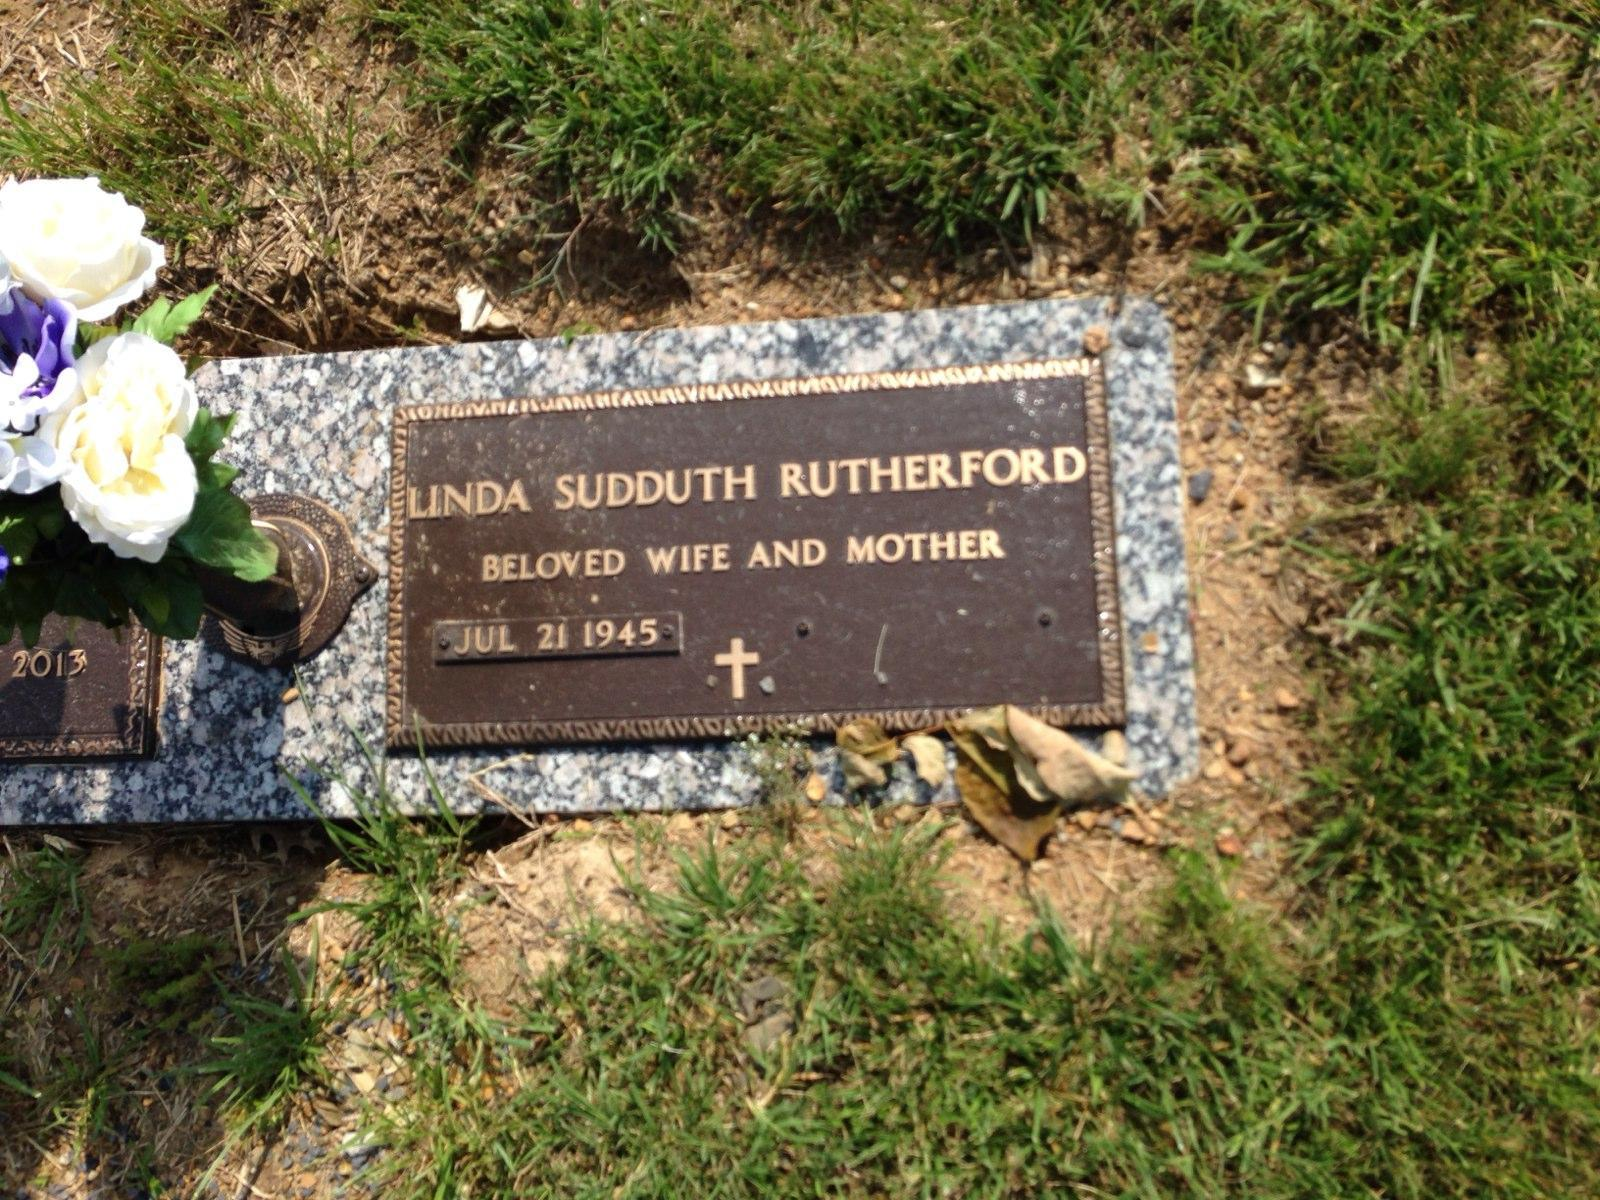flat: (370, 335, 1128, 771)
